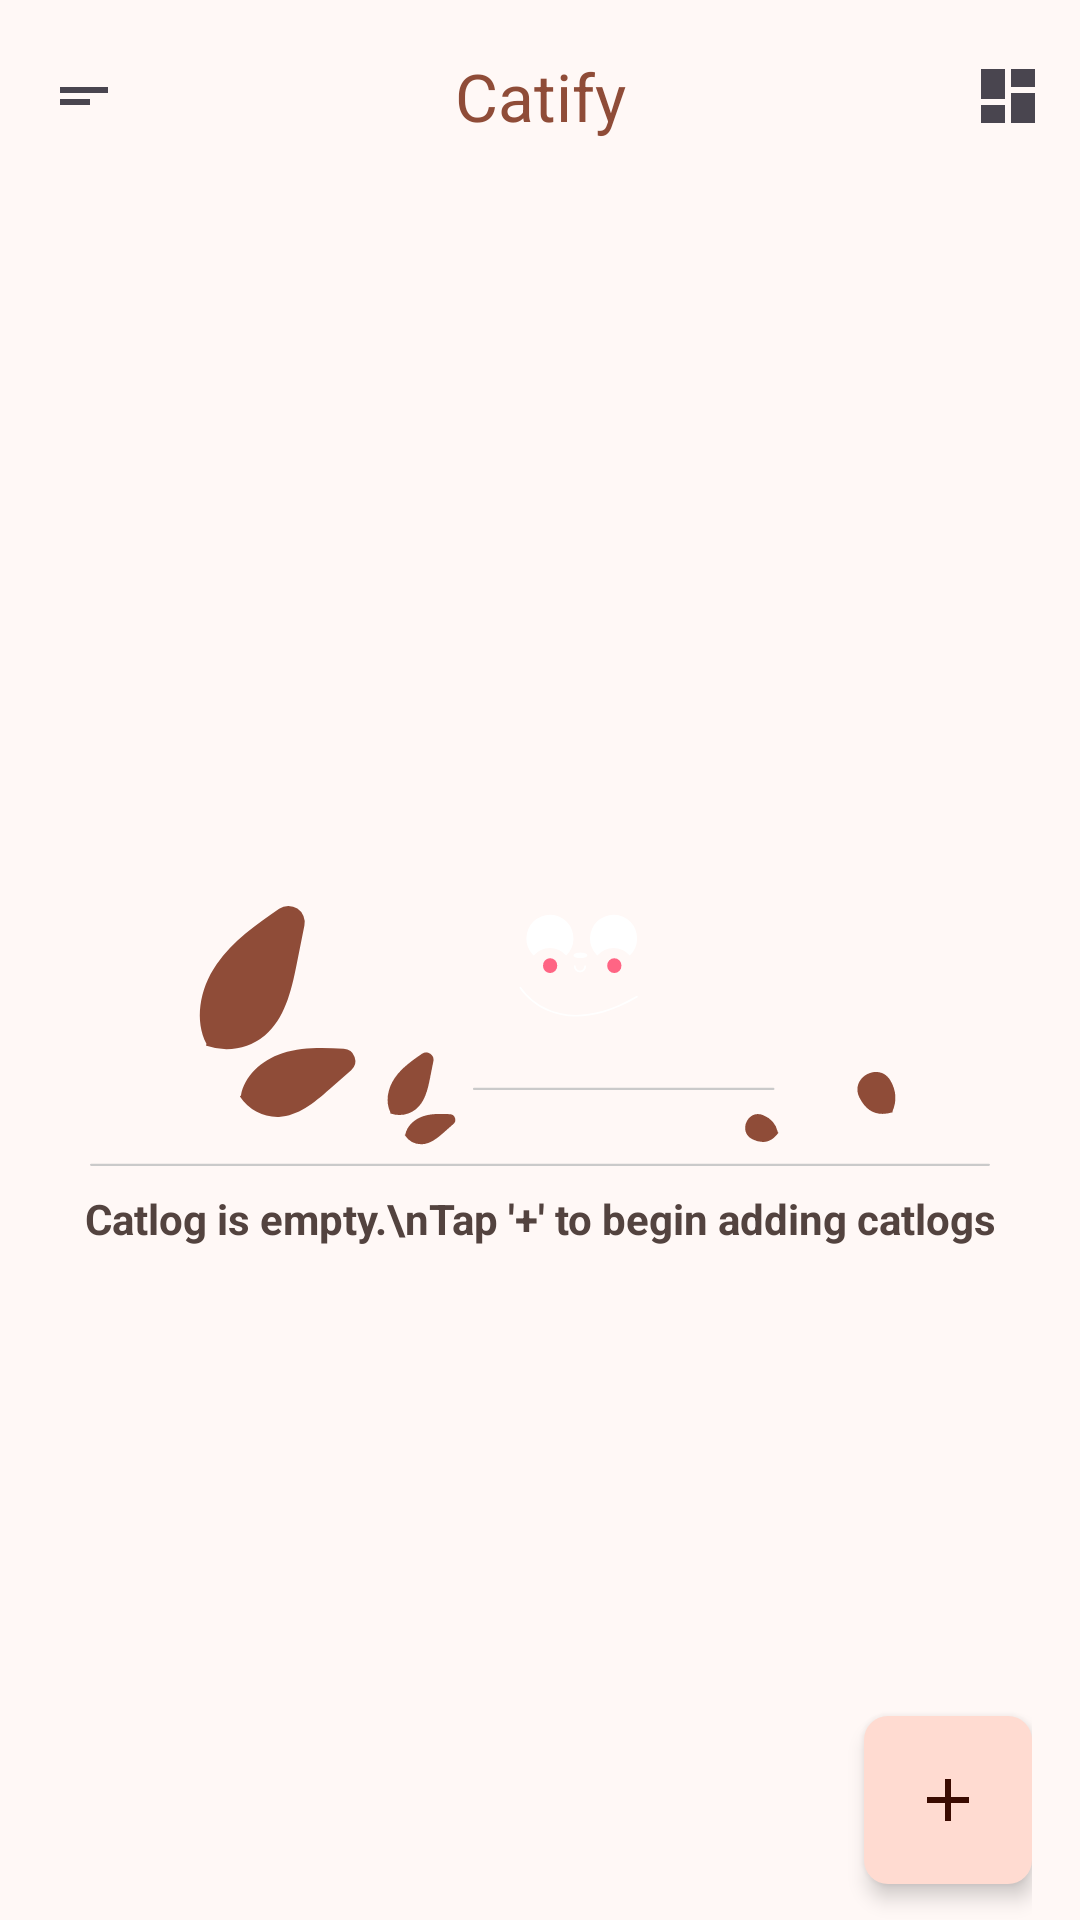

Point at icon controls on the screen. Image size 1080 × 1920, points as point (x, y).
Add new catalog: point (948, 1800)
